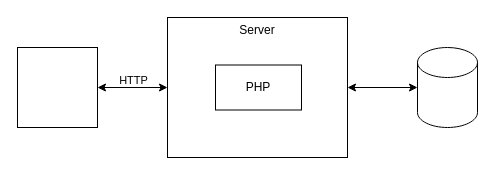
Image size: 495x175. Some labels were removed from this diagram. Here are the shapes that lost their labels. From the top down, the centre of each, then its label:
(57,87): Webový prohlížeč
(447,87): Databáze
